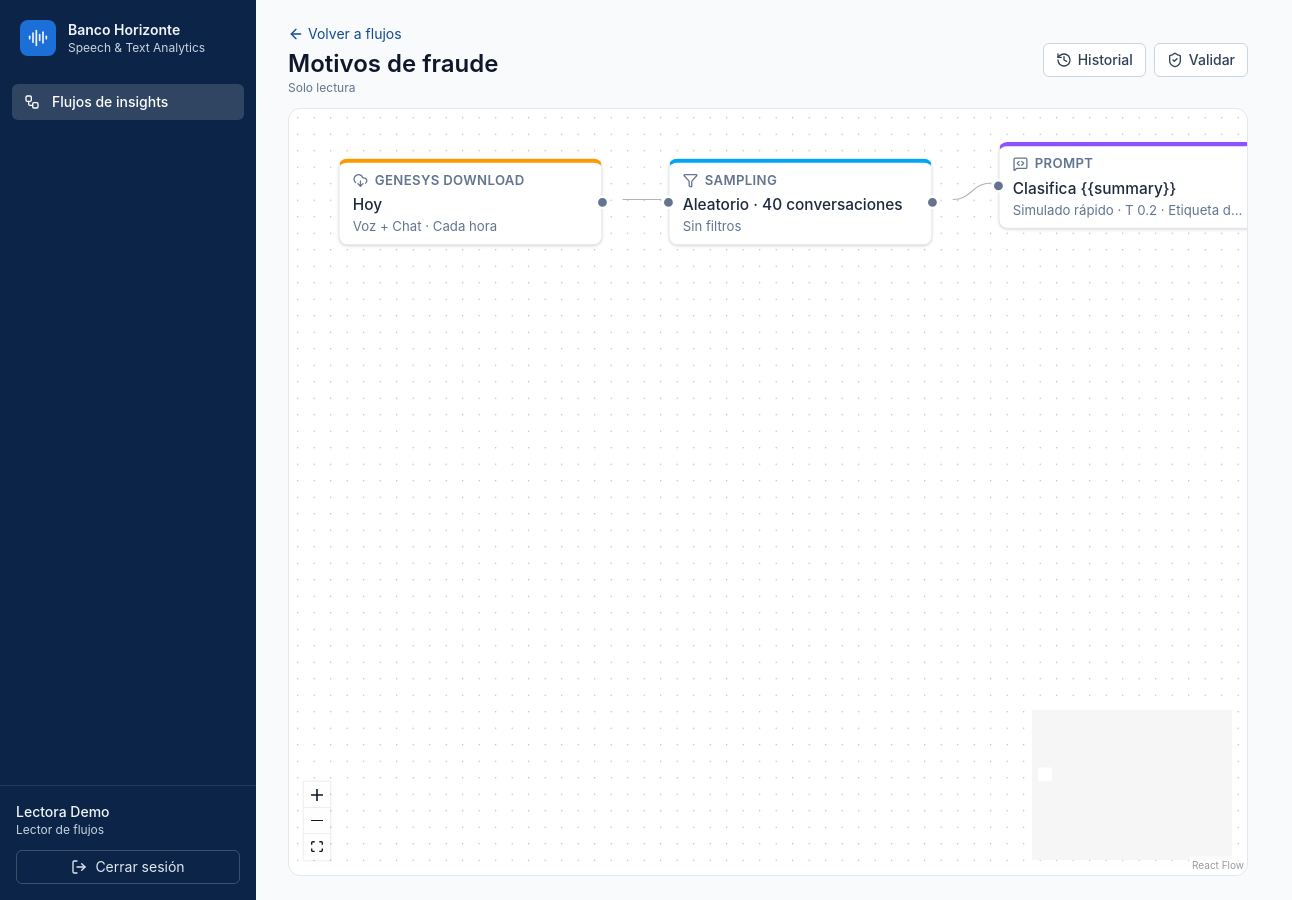
Scenario: caja «Genesys download» en el editor (FE017) › sin flows:edit, la caja está en solo lectura
This screenshot has width=1292, height=900.
Click the element showing "Genesys download Hoy Voz + Chat · Cada hora": (470,202) [338, 158, 602, 245]
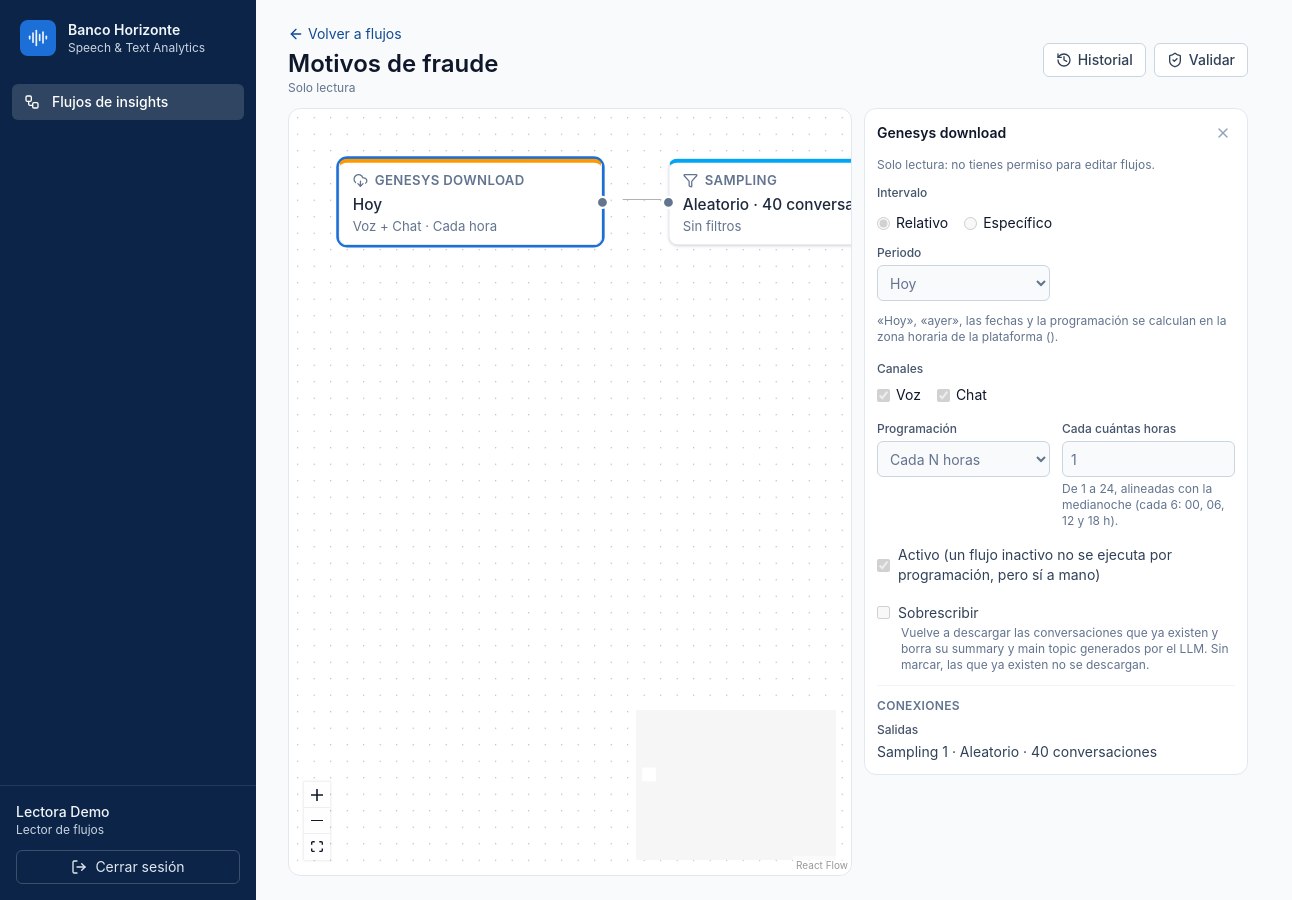
Expected: the dropdown labelled "Periodo" is disabled, [877, 265, 1050, 301]
Expected: the dropdown labelled "Programación" is disabled, [877, 441, 1050, 477]
